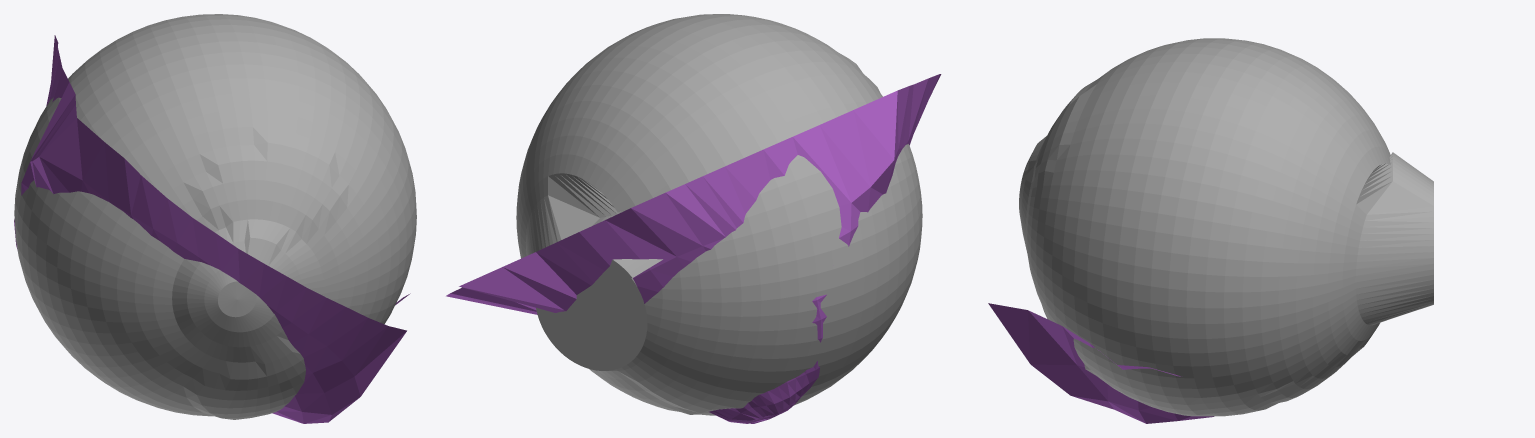
File: G02_A2D_ALIGNED_GT.glb
3 renders of one model, left to right at view 1: azimuth 30°, elevation 25°; view 2: azimuth 150°, elevation 25°; view 3: azimuth 270°, elevation 25°, orthographic. The views are drawn at different scales.
Parts seen in each view (by area): view 1: Independent_GT, A2D; view 2: Independent_GT, A2D; view 3: Independent_GT, A2D.
Part boxes in pixels (x1=…): Independent_GT: x1=14, y1=14, x2=416, y2=419; A2D: x1=14, y1=35, x2=410, y2=423; Independent_GT: x1=516, y1=14, x2=922, y2=415; A2D: x1=446, y1=74, x2=941, y2=423; Independent_GT: x1=1019, y1=38, x2=1433, y2=416; A2D: x1=988, y1=303, x2=1214, y2=423.
Bounding box in the file's own units: 0.00426 × 0.00403 × 0.00579.
